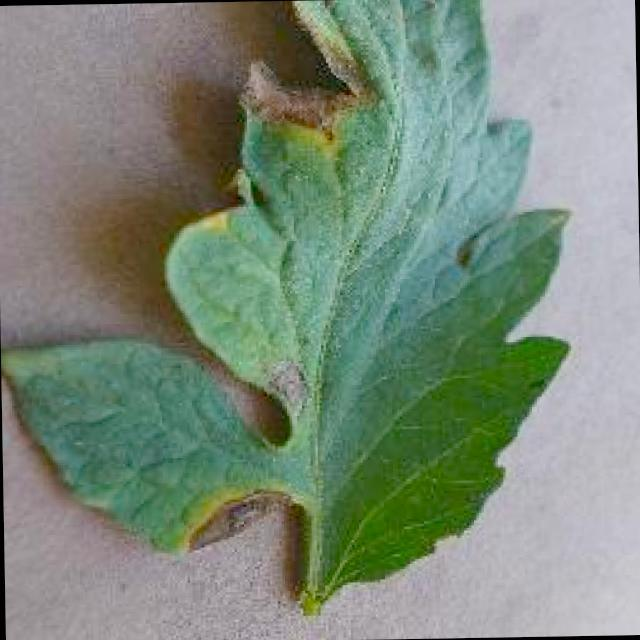Tomato Early blight leaf: (0, 0, 577, 560)
